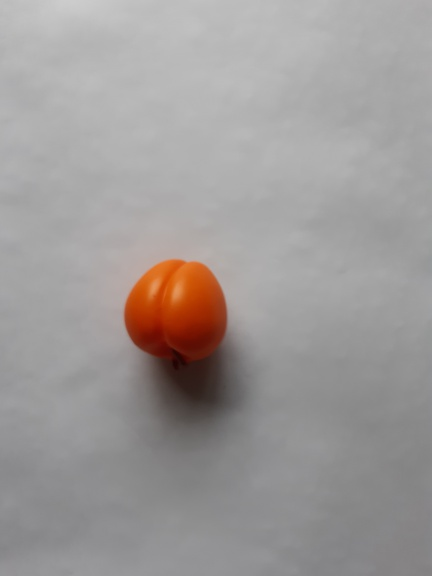apricot: (117, 253, 237, 378)
